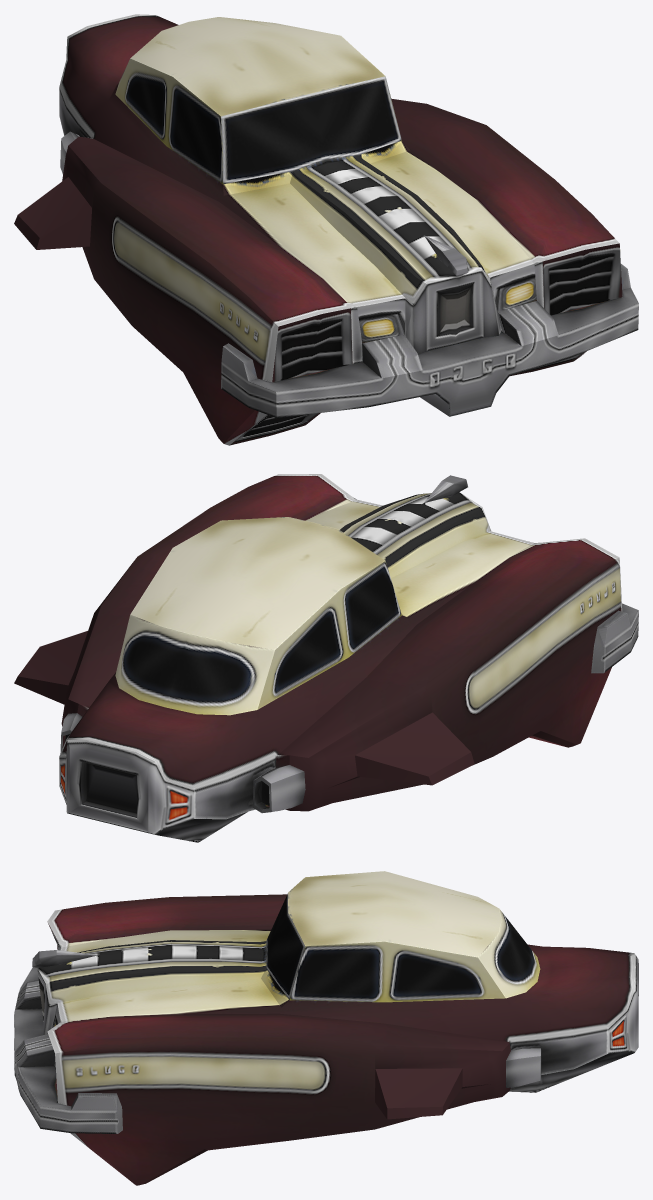
Rendered from JPMafia_low.FBX.
The picture shows the model from 3 angles, top to bottom: view 1: azimuth 30°, elevation 25°; view 2: azimuth 150°, elevation 25°; view 3: azimuth 270°, elevation 25°; orthographic projection. The views are drawn at different scales.
Parts seen in each view (by area): view 1: JpMafia; view 2: JpMafia; view 3: JpMafia.
Part boxes in pixels (x1,y1,x2,y2): JpMafia: [14, 14, 638, 445]; JpMafia: [14, 474, 638, 842]; JpMafia: [14, 871, 638, 1185].
Bounding box in the file's own units: 2.39 × 1.32 × 3.44.
